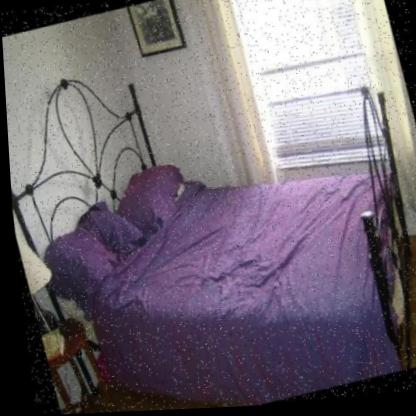Bed: (7, 138, 416, 408)
